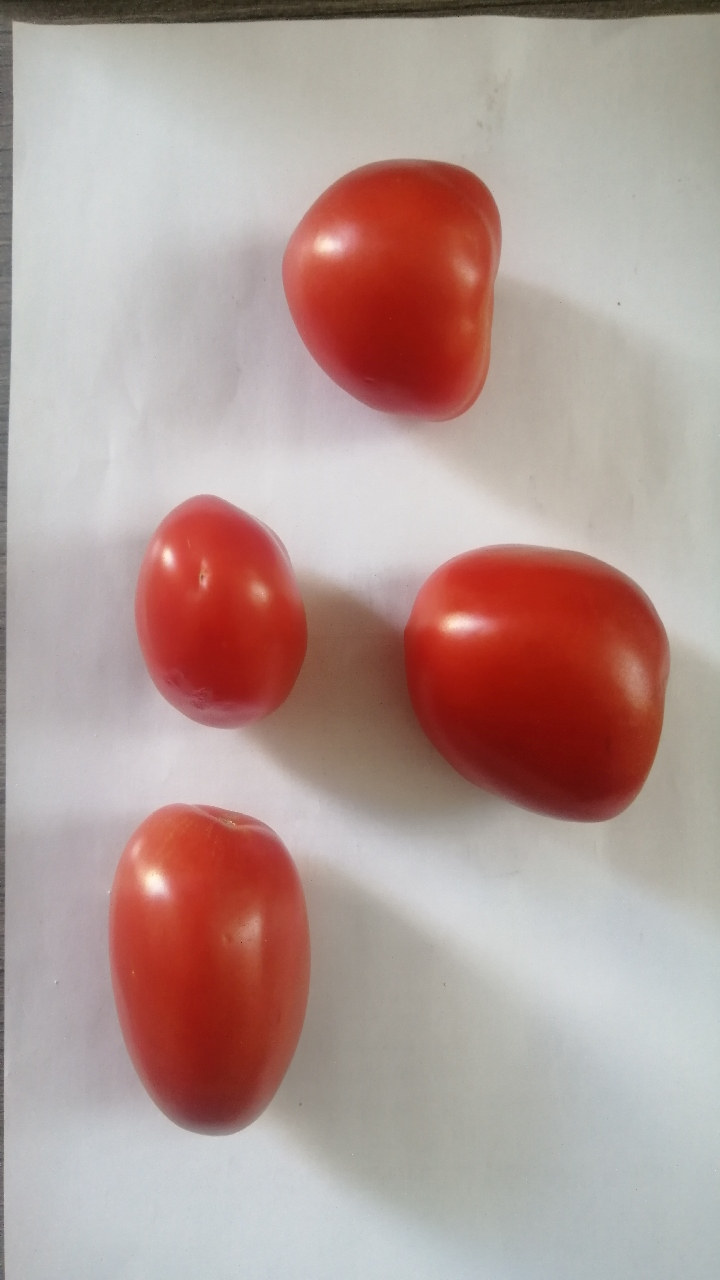tomateRojo: (386, 534, 689, 839), (98, 788, 337, 1148), (263, 137, 515, 431), (104, 471, 321, 740)
